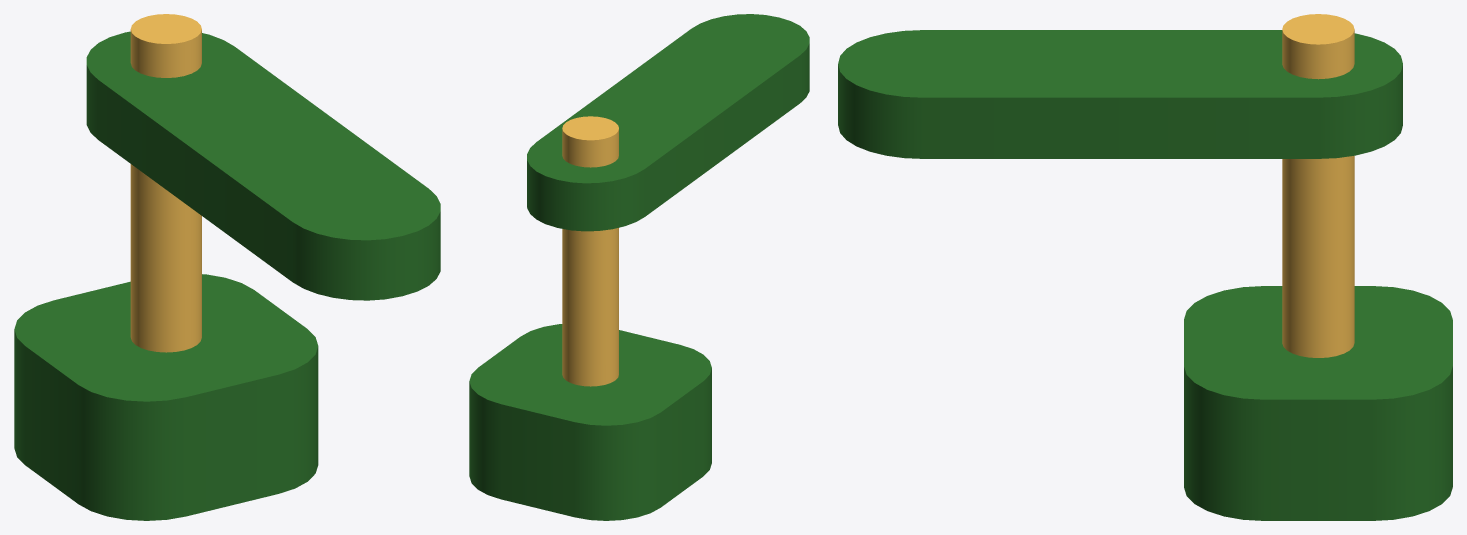
Rendered from Saw Stand C.fbx.
3 renders of one model, left to right at view 1: azimuth 30°, elevation 25°; view 2: azimuth 150°, elevation 25°; view 3: azimuth 270°, elevation 25°, orthographic. The views are drawn at different scales.
Parts seen in each view (by area): view 1: Saw Stand C, Saw Stand C.002, Saw Stand C.001; view 2: Saw Stand C, Saw Stand C.002, Saw Stand C.001; view 3: Saw Stand C.002, Saw Stand C, Saw Stand C.001.
Part boxes in pixels (bbox=[...]): Saw Stand C: bbox=[14, 274, 318, 520]; Saw Stand C.002: bbox=[86, 31, 440, 300]; Saw Stand C.001: bbox=[130, 14, 201, 352]; Saw Stand C: bbox=[469, 324, 711, 520]; Saw Stand C.002: bbox=[527, 14, 809, 231]; Saw Stand C.001: bbox=[562, 116, 618, 386]; Saw Stand C.002: bbox=[838, 30, 1402, 158]; Saw Stand C: bbox=[1184, 286, 1452, 520]; Saw Stand C.001: bbox=[1282, 14, 1354, 357].
Bounding box in the file's own units: 71.26 × 127 × 163.
